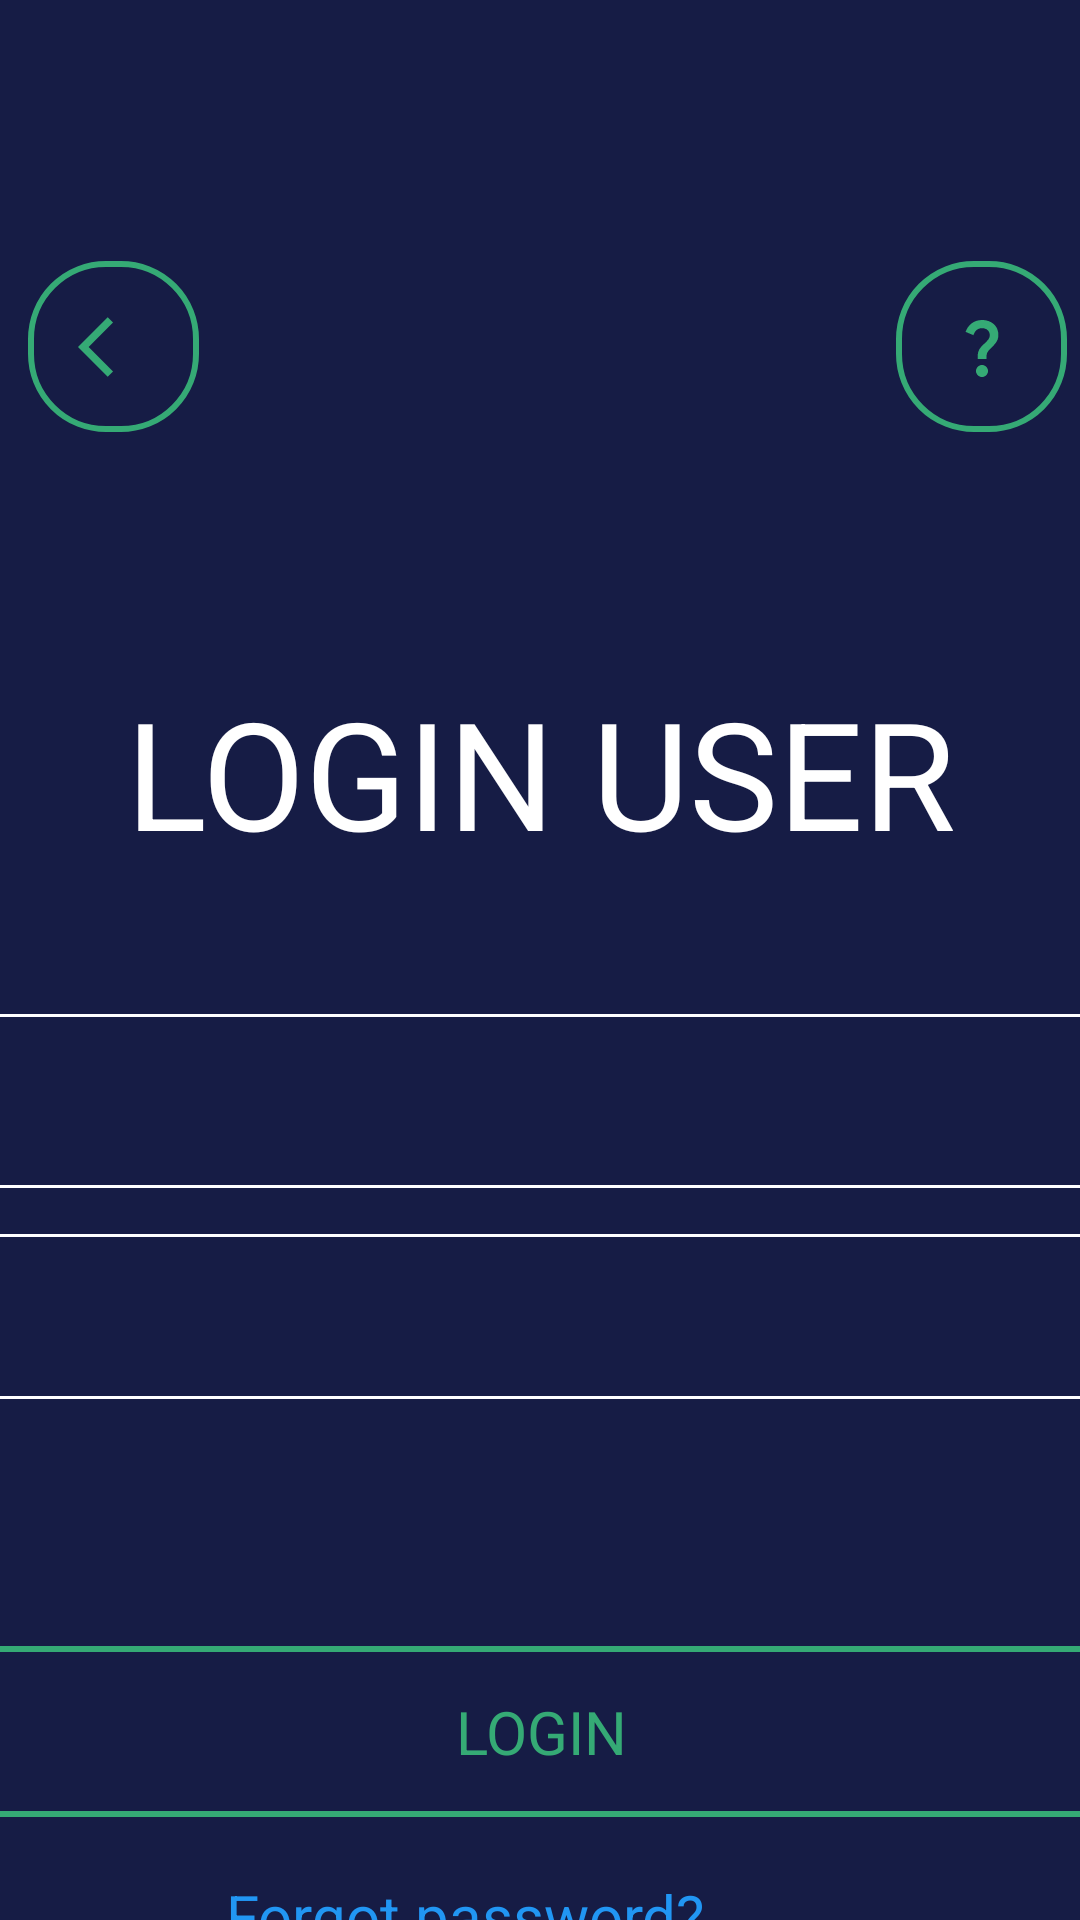

Icons on this 1080px×1920px Android screen, each with the point to tap as (x,y):
back: (113,346)
question: (981,346)
